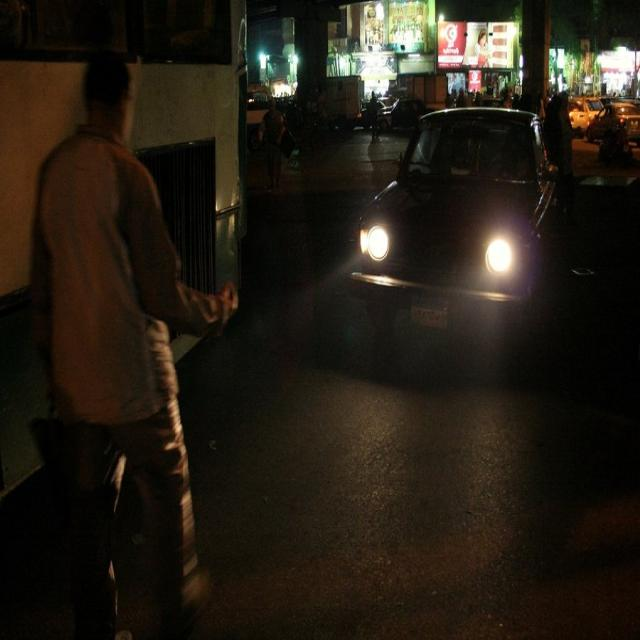People: (44, 27, 204, 637), (543, 84, 592, 251), (254, 91, 305, 213), (361, 63, 385, 155)
car: (363, 84, 546, 430), (373, 79, 447, 151), (592, 67, 640, 172), (226, 79, 278, 131)
